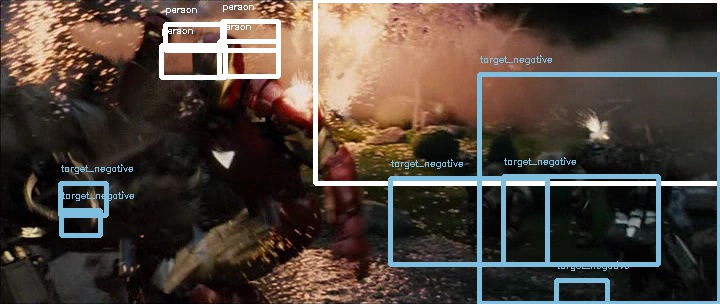person: (190, 39, 240, 107), (189, 39, 239, 107), (191, 39, 241, 107), (190, 38, 240, 106), (190, 40, 240, 108)
target_negative: (2, 159, 337, 271), (507, 139, 690, 301), (225, 132, 606, 169), (620, 119, 715, 227), (30, 293, 686, 302)
